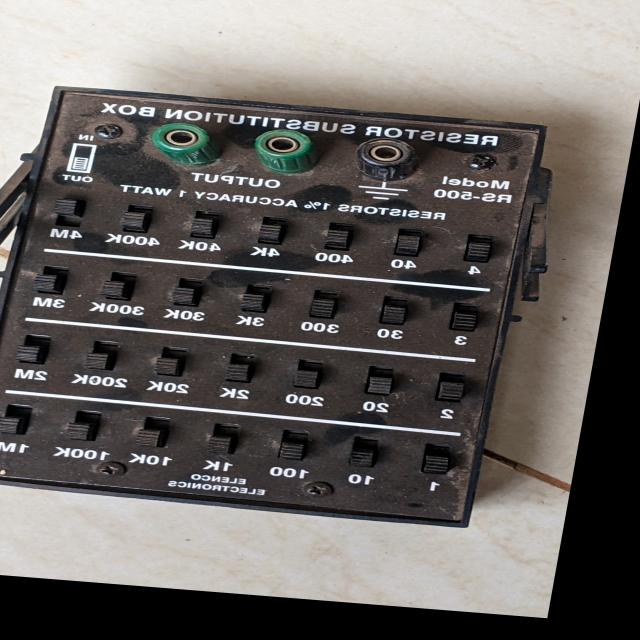Resistor Substitution Box: (0, 72, 583, 544)
